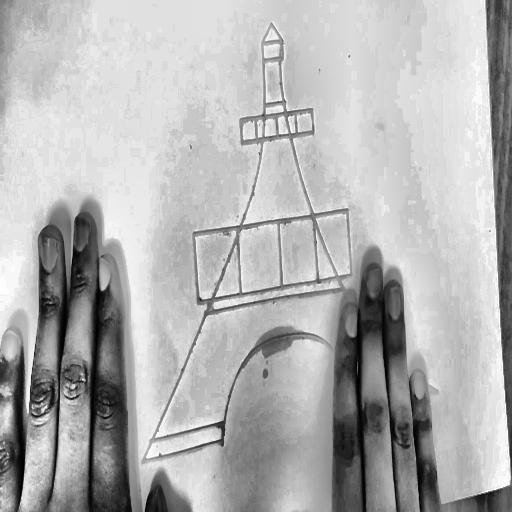bottom_right: (508, 480, 512, 487)
eiffel-tower: (101, 0, 454, 475)
